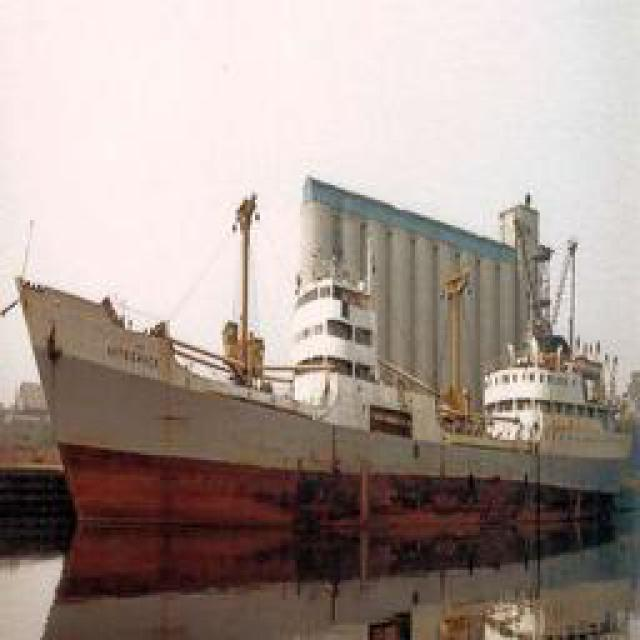Ship: (30, 156, 633, 566)
